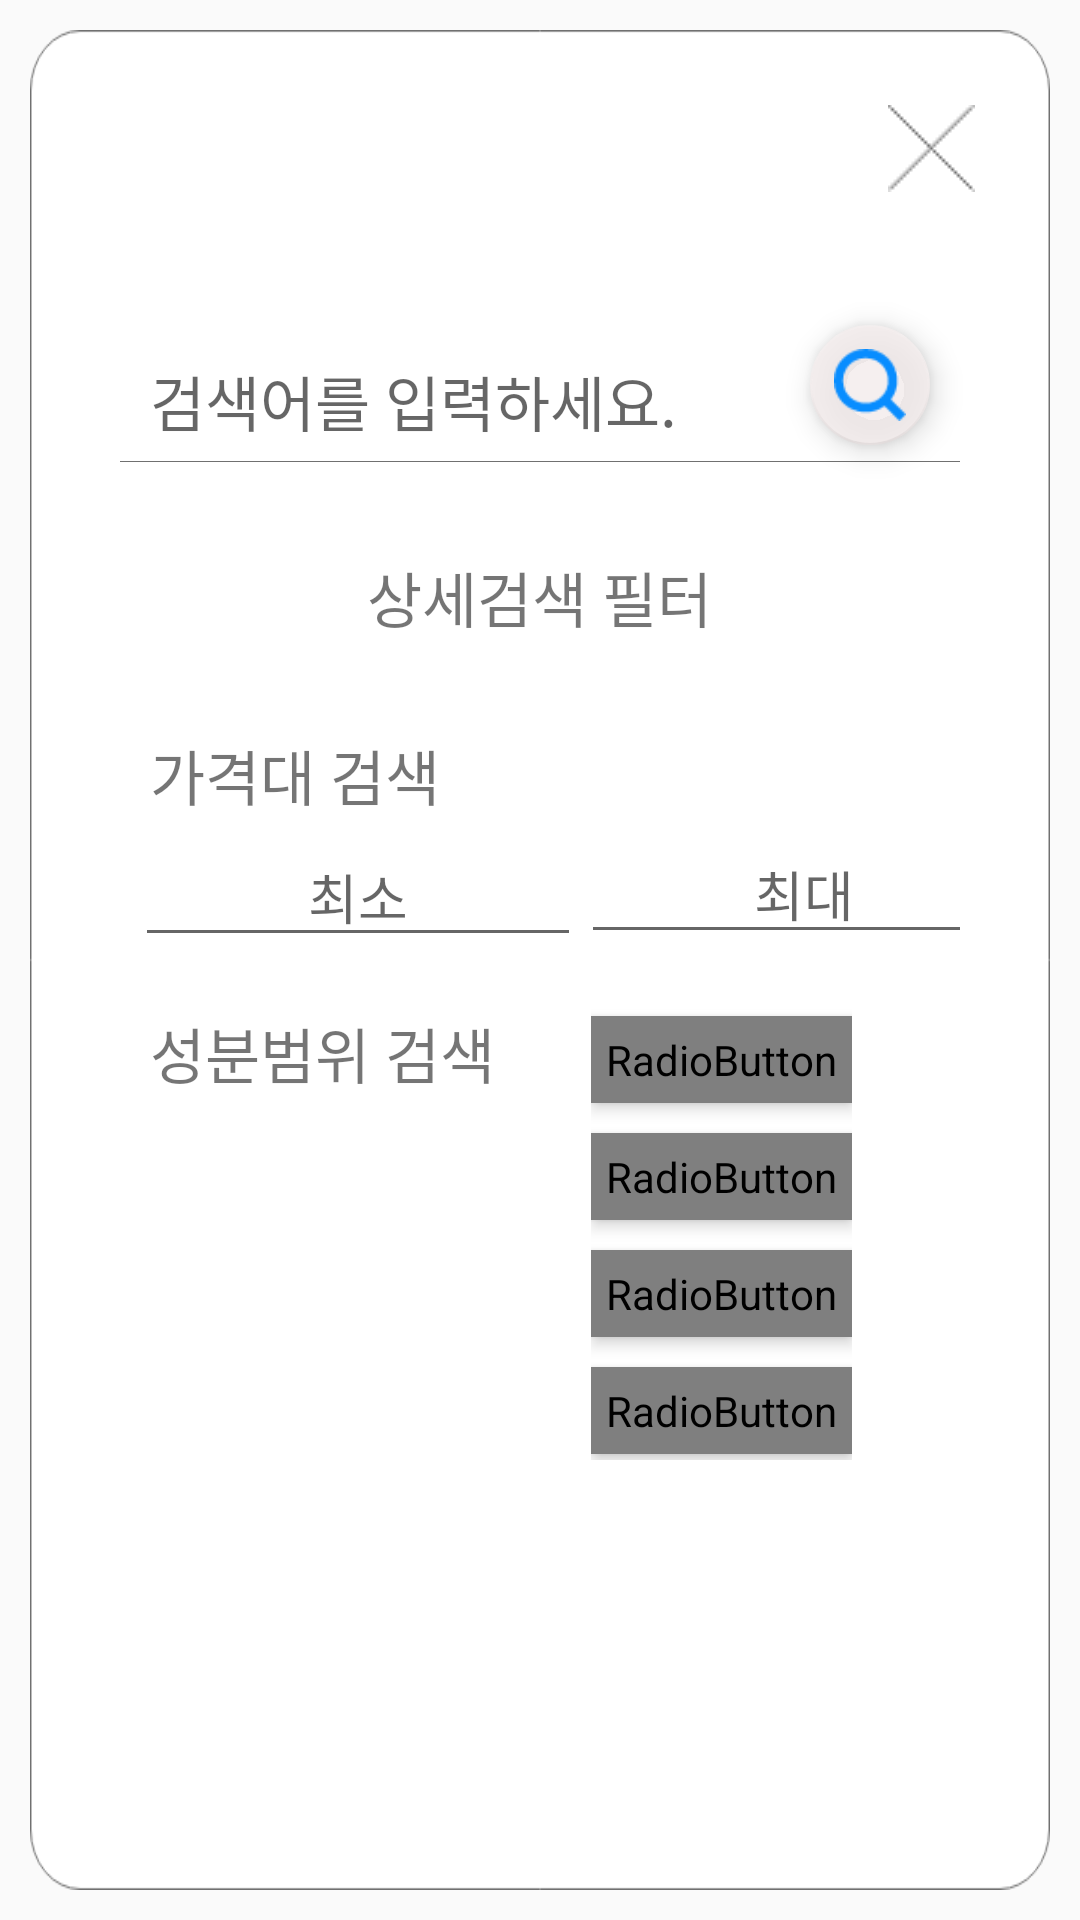

Icon bounding boxes for this 1080*1920 phone screenshot, format (left=x1, top=y1, right=x2, bottom=y2):
san exit: (left=888, top=105, right=975, bottom=192)
search: (left=810, top=325, right=930, bottom=445)
